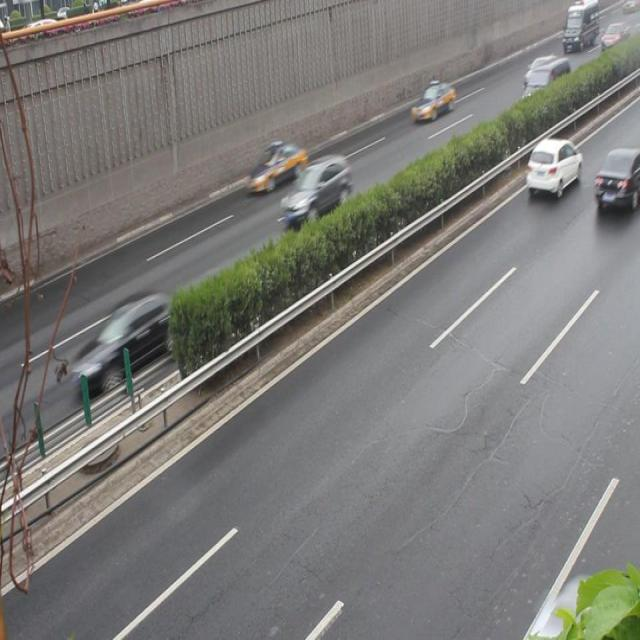car: (70, 292, 184, 400), (280, 155, 352, 227), (523, 138, 581, 199), (246, 142, 306, 198), (593, 150, 640, 213), (410, 81, 455, 122)
truck: (516, 59, 570, 116)
